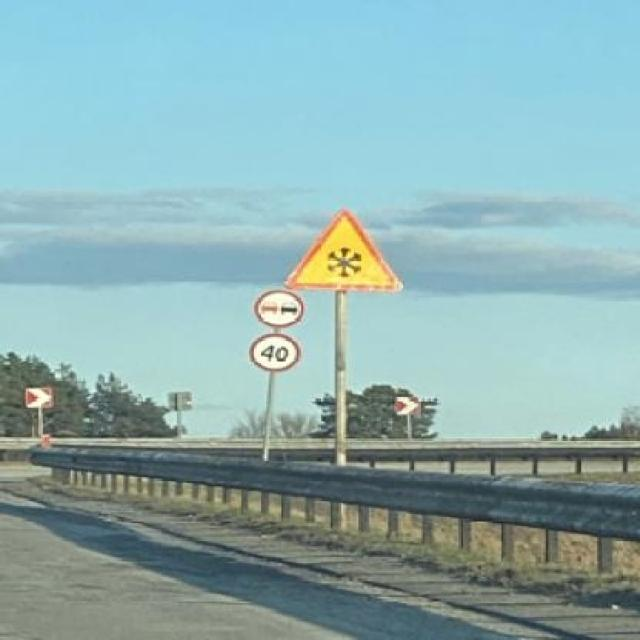forb_speed_over_40: (253, 331, 302, 375)
